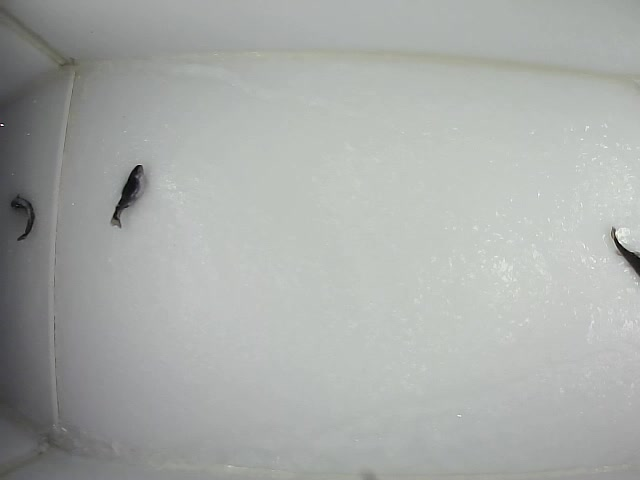fish: (108, 164, 146, 229), (6, 194, 38, 242)
